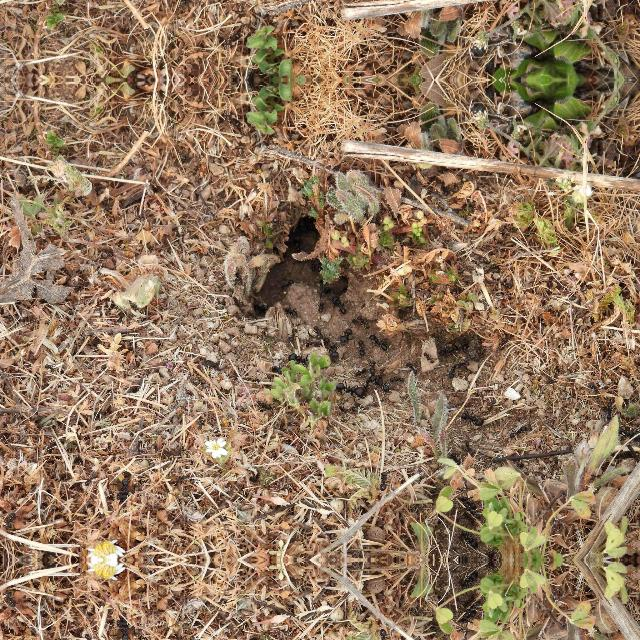Messor: (366, 332, 394, 354), (290, 352, 320, 371), (112, 476, 130, 506), (502, 426, 532, 444), (460, 402, 482, 426), (112, 614, 130, 640), (336, 384, 364, 398), (330, 299, 350, 317), (339, 328, 357, 344), (366, 364, 380, 380), (353, 318, 371, 330), (354, 340, 368, 354)
